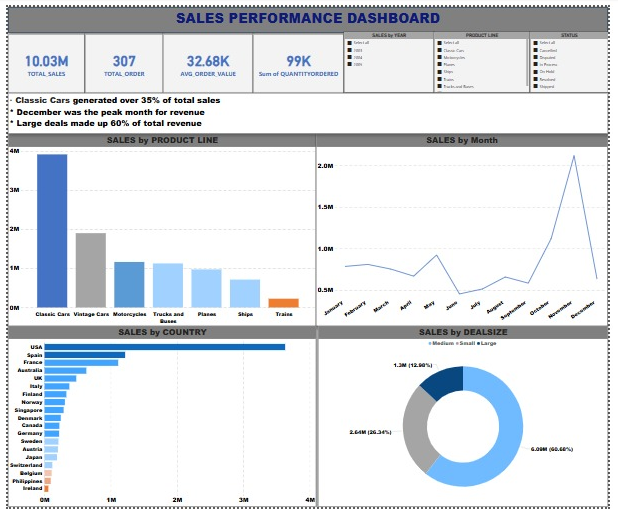

The dashboard page shown, as its layout file describes it:
{"tool":"powerbi","page":{"name":"Page 1","canvas":[2400,2000],"ordinal":0},"visuals":[{"type":"shape","box":[0,0,2400,103.3],"z":0},{"type":"textbox","box":[0,0,2400,103.3],"z":1000},{"type":"card","fields":{"Values":["sales_data_sample.TOTAL_SALES"]},"box":[0,106.7,306.7,236.7],"z":2000},{"type":"card","fields":{"Values":["sales_data_sample.TOTAL_ORDER"]},"box":[306.7,106.7,313.3,236.7],"z":3000},{"type":"card","fields":{"Values":["sales_data_sample.AVG_ORDER_VALUE"]},"box":[620,106.7,360,236.7],"z":4000},{"type":"card","fields":{"Values":["Sum(sales_data_sample.QUANTITYORDERED)"]},"box":[980,106.7,363.3,236.7],"z":5000},{"type":"clusteredColumnChart","title":"SALES by PRODUCT LINE","fields":{"Category":["sales_data_sample.PRODUCTLINE"],"Y":["Sum(sales_data_sample. SALES)"]},"box":[0,506.7,1233.3,770],"z":6000},{"type":"lineChart","title":"SALES by Month","fields":{"Category":["sales_data_sample.ORDERDATE.Variation.Date Hierarchy.Year","sales_data_sample.ORDERDATE.Variation.Date Hierarchy.Month"],"Y":["Sum(sales_data_sample. SALES)"]},"box":[1233.3,506.7,1166.7,770],"z":7000},{"type":"barChart","title":"  SALES by COUNTRY","fields":{"Category":["sales_data_sample.COUNTRY"],"Y":["Sum(sales_data_sample. SALES)"]},"box":[0,1276.7,1233.3,723.3],"z":8000},{"type":"donutChart","title":"SALES by DEALSIZE","fields":{"Category":["sales_data_sample.DEALSIZE"],"Y":["Sum(sales_data_sample. SALES)"]},"box":[1240,1276.7,1160,723.3],"z":9000},{"type":"slicer","title":"SALES by YEAR","fields":{"Values":["sales_data_sample.YEAR_ID"]},"box":[1343.3,100,360,243.3],"z":10000},{"type":"slicer","title":"PRODUCT LINE","fields":{"Values":["sales_data_sample.PRODUCTLINE"]},"box":[1703.3,100,383.3,243.3],"z":11000},{"type":"slicer","title":"STATUS","fields":{"Values":["sales_data_sample.STATUS"]},"box":[2086.7,100,313.3,243.3],"z":12000},{"type":"textbox","box":[0,343.3,2400,163.3],"z":13000}]}

Visuals, with their boxes in screenshot pixels (x1, y1, x2, y2), scaled from the page's 2400x2000 canvas onto the 618x509 screenshot:
shape: 0:0:617:26
textbox: 0:0:617:26
card - sales_data_sample.TOTAL_SALES: 0:27:79:87
card - sales_data_sample.TOTAL_ORDER: 79:27:160:87
card - sales_data_sample.AVG_ORDER_VALUE: 160:27:252:87
card - Sum(sales_data_sample.QUANTITYORDERED): 252:27:346:87
"SALES by PRODUCT LINE" clusteredColumnChart: 0:129:318:325
"SALES by Month" lineChart: 318:129:617:325
"  SALES by COUNTRY" barChart: 0:325:318:508
"SALES by DEALSIZE" donutChart: 319:325:617:508
"SALES by YEAR" slicer: 346:25:439:87
"PRODUCT LINE" slicer: 439:25:537:87
"STATUS" slicer: 537:25:617:87
textbox: 0:87:617:129
